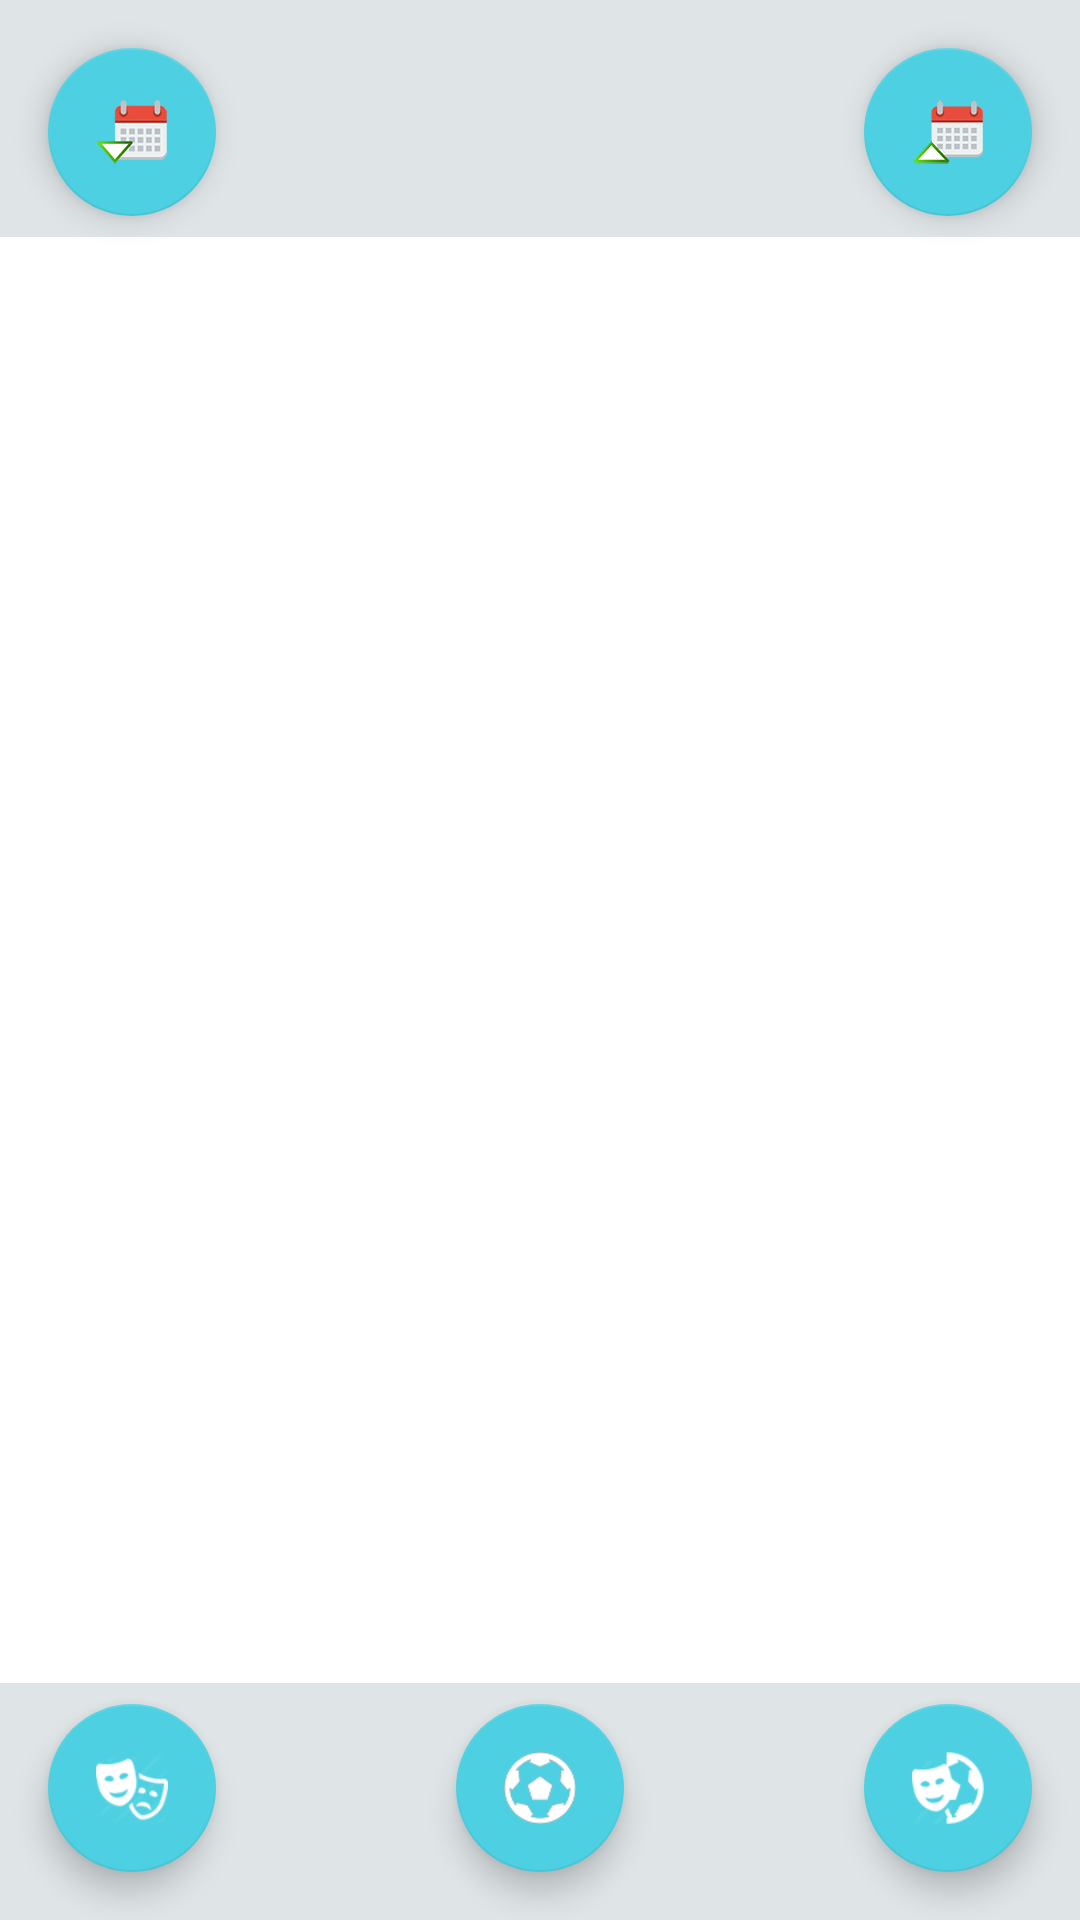

Icon bounding boxes for this 1080px×1920px phone screenshot, format (x1, y1, x2, y2):
ascending: (864, 48, 1032, 216)
culture: (48, 1704, 216, 1872)
descending: (48, 48, 216, 216)
football: (456, 1704, 624, 1872)
mixed: (864, 1704, 1032, 1872)
